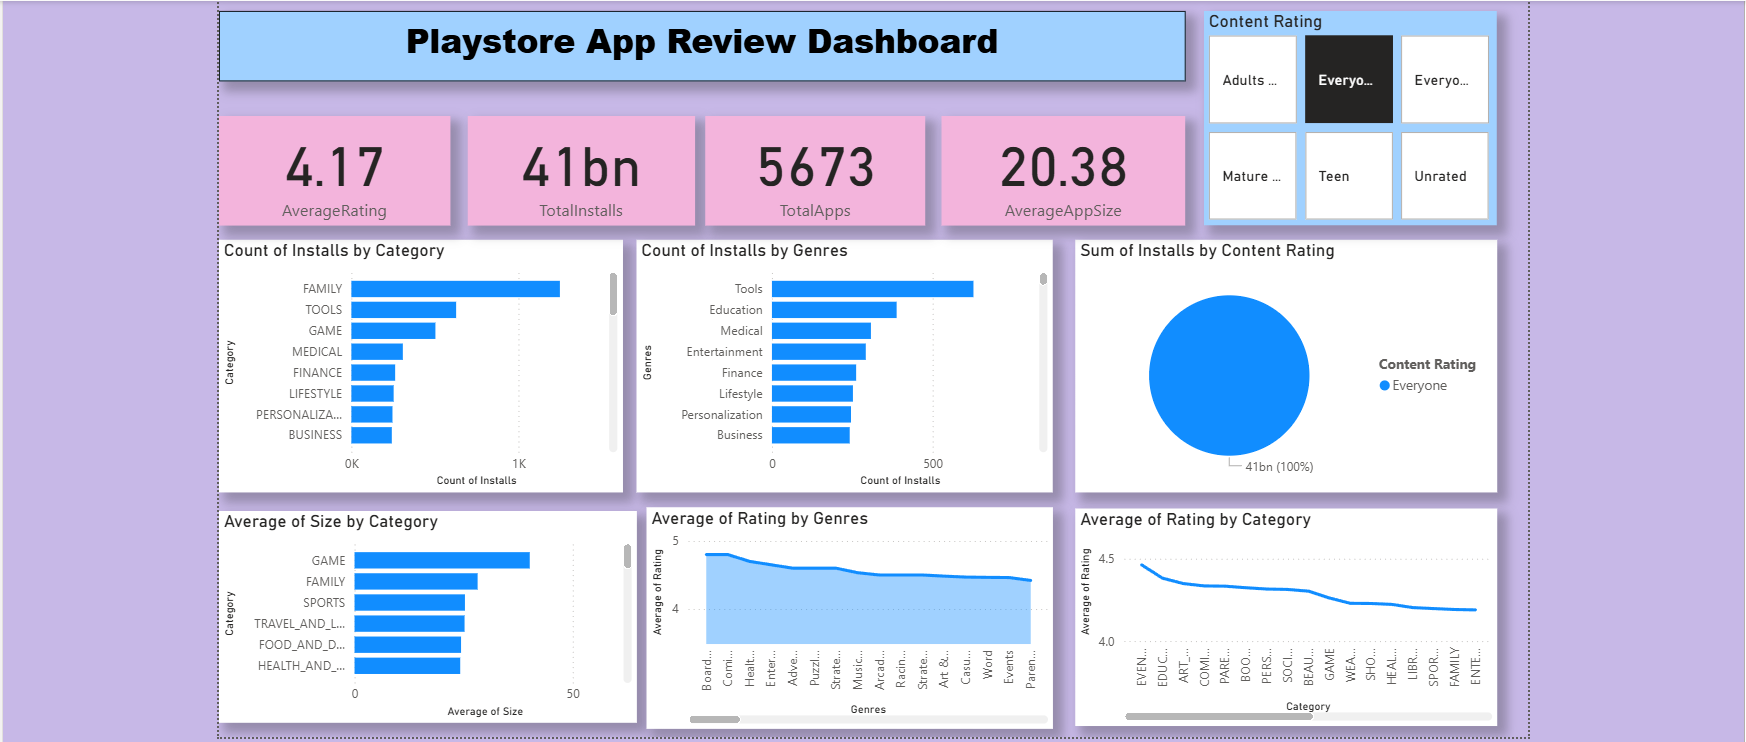

The dashboard page shown, as its layout file describes it:
{"tool":"powerbi","page":{"name":"Page 1","canvas":[1280,720],"ordinal":0},"visuals":[{"type":"barChart","fields":{"Category":["Play_Store_Data_Cleaned (2).Category"],"Y":["CountNonNull(Play_Store_Data_Cleaned (2).Installs)"]},"box":[0,233.3,395.2,247],"z":0},{"type":"barChart","fields":{"Category":["Play_Store_Data_Cleaned (2).Genres"],"Y":["CountNonNull(Play_Store_Data_Cleaned (2).Installs)"]},"box":[408.9,233.3,407.5,247],"z":1000},{"type":"pieChart","fields":{"Category":["Play_Store_Data_Cleaned (2).Content Rating"],"Y":["Sum(Play_Store_Data_Cleaned (2).Installs)"]},"box":[837.1,233.3,413,247],"z":2000},{"type":"barChart","fields":{"Category":["Play_Store_Data_Cleaned (2).Category"],"Y":["Avg(Play_Store_Data_Cleaned (2).Size)"]},"box":[0,499.5,408.9,207.2],"z":3000},{"type":"stackedAreaChart","fields":{"Category":["Play_Store_Data_Cleaned (2).Genres"],"Y":["Avg(Play_Store_Data_Cleaned (2).Rating)"]},"box":[418.5,495.4,397.9,216.8],"z":4000},{"type":"lineChart","fields":{"Category":["Play_Store_Data_Cleaned (2).Category"],"Y":["Avg(Play_Store_Data_Cleaned (2).Rating)"]},"box":[837.1,496.7,413,212.7],"z":5000},{"type":"card","fields":{"Values":["Play_Store_Data_Cleaned (2).AverageRating"]},"box":[0,112.5,226.4,107],"z":6000},{"type":"card","fields":{"Values":["Play_Store_Data_Cleaned (2).TotalInstalls"]},"box":[242.9,112.5,222.3,107],"z":7000},{"type":"card","fields":{"Values":["Play_Store_Data_Cleaned (2).TotalApps"]},"box":[476.2,112.5,215.4,107],"z":8000},{"type":"card","fields":{"Values":["Play_Store_Data_Cleaned (2).average_size"]},"box":[706.7,112.5,238.8,107],"z":9000},{"type":"textbox","box":[0,9.6,945.5,68.6],"z":10000},{"type":"advancedSlicerVisual","fields":{"Values":["Play_Store_Data_Cleaned (2).Content Rating"]},"box":[963.3,9.6,286.8,209.9],"z":10001}]}

Visuals, with their boxes in screenshot pixels (x1, y1, x2, y2):
barChart - Play_Store_Data_Cleaned (2).Category x CountNonNull(Play_Store_Data_Cleaned (2).Installs): bbox(223, 237, 624, 488)
barChart - Play_Store_Data_Cleaned (2).Genres x CountNonNull(Play_Store_Data_Cleaned (2).Installs): bbox(638, 237, 1052, 488)
pieChart - Play_Store_Data_Cleaned (2).Content Rating x Sum(Play_Store_Data_Cleaned (2).Installs): bbox(1073, 237, 1492, 488)
barChart - Play_Store_Data_Cleaned (2).Category x Avg(Play_Store_Data_Cleaned (2).Size): bbox(223, 507, 638, 717)
stackedAreaChart - Play_Store_Data_Cleaned (2).Genres x Avg(Play_Store_Data_Cleaned (2).Rating): bbox(648, 503, 1052, 723)
lineChart - Play_Store_Data_Cleaned (2).Category x Avg(Play_Store_Data_Cleaned (2).Rating): bbox(1073, 504, 1492, 720)
card - Play_Store_Data_Cleaned (2).AverageRating: bbox(223, 114, 453, 223)
card - Play_Store_Data_Cleaned (2).TotalInstalls: bbox(469, 114, 695, 223)
card - Play_Store_Data_Cleaned (2).TotalApps: bbox(706, 114, 925, 223)
card - Play_Store_Data_Cleaned (2).average_size: bbox(940, 114, 1183, 223)
textbox: bbox(223, 10, 1183, 79)
advancedSlicerVisual - Play_Store_Data_Cleaned (2).Content Rating: bbox(1201, 10, 1492, 223)
